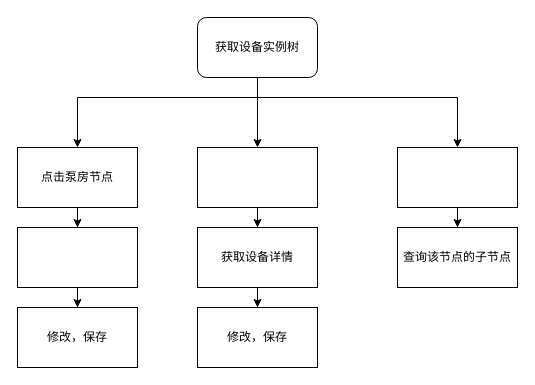
The diagram is 535 pixels wide and 385 high, and some of its shapes have lost their labels. The centre of each missing label's shape, as x and y in pixels:
点击树节点: [457,177]
点击设备节点: [257,177]
获取泵房信息: [77,257]
